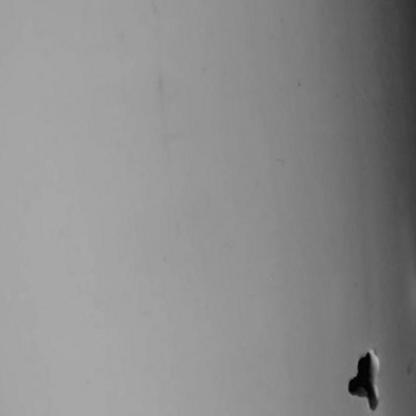kongdong: (338, 347, 392, 416)
